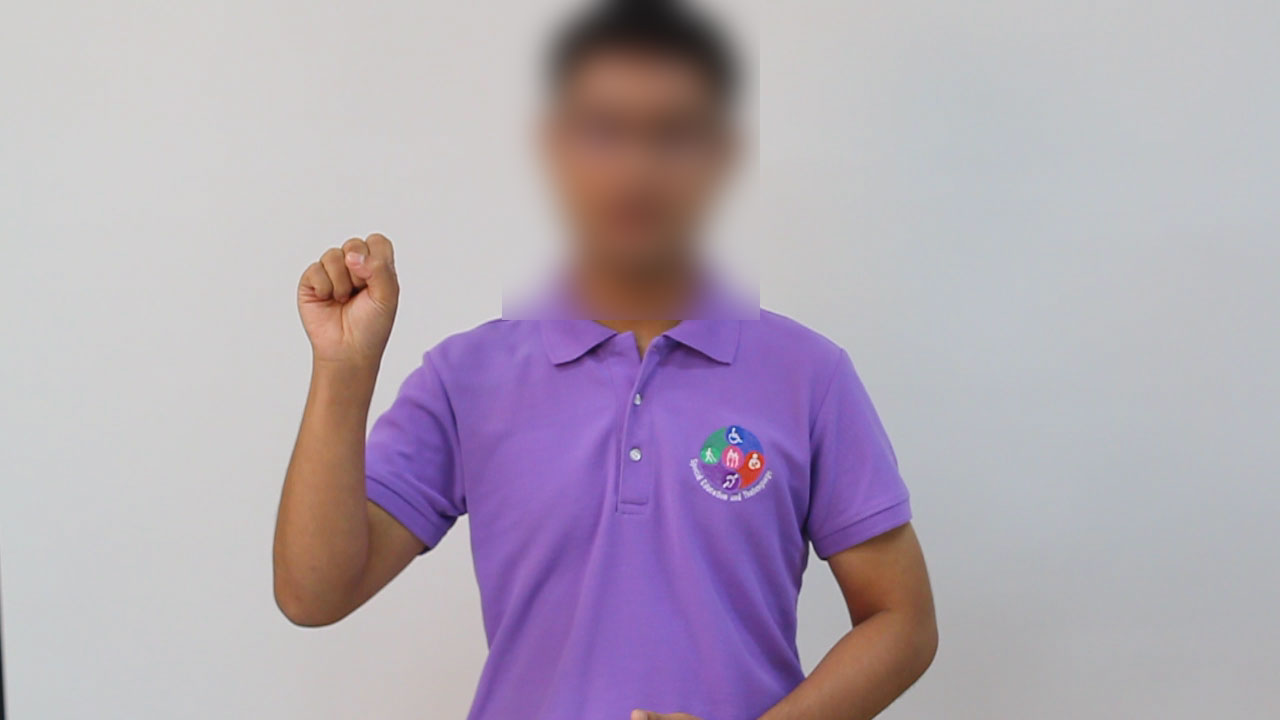sor: (275, 218, 416, 374)
